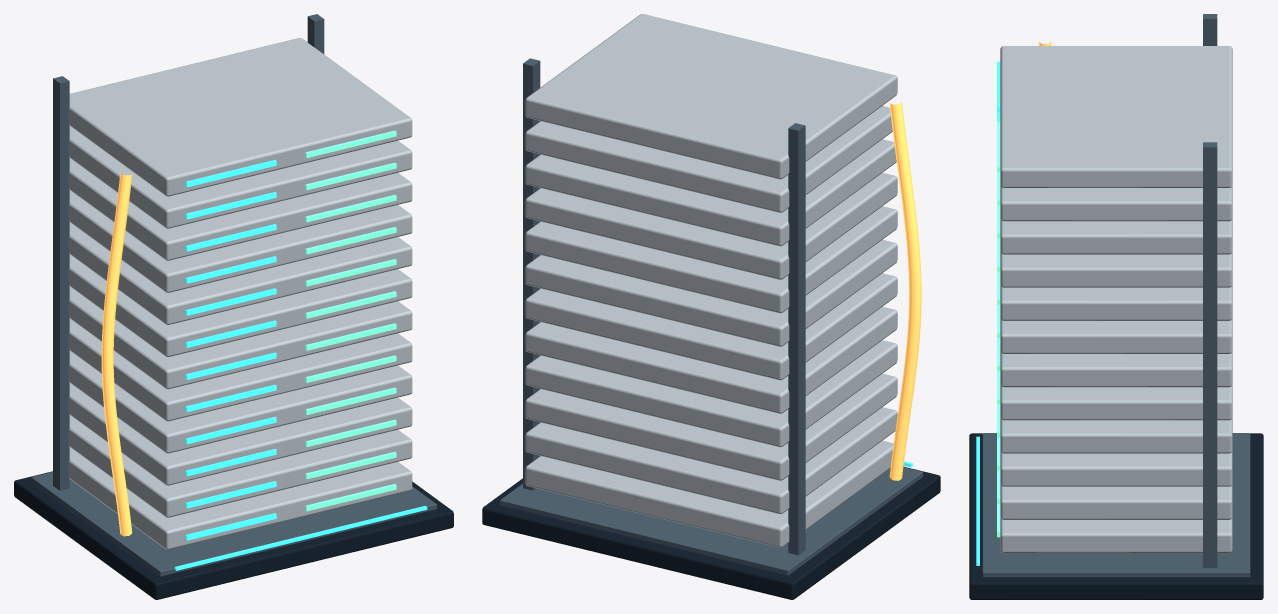
Rendered from transformer-stack.glb.
The picture shows the model from 3 angles, left to right: view 1: azimuth 30°, elevation 25°; view 2: azimuth 150°, elevation 25°; view 3: azimuth 270°, elevation 25°; orthographic projection. The views are drawn at different scales.
Visible parts, largest first — view 1: block (×12), base, inlay, mlp_strip (×12), attention_strip (×12), frame (×2), residual_bypass, status_strip; view 2: block (×12), base, inlay, frame (×2), residual_bypass; view 3: block (×12), inlay, base, frame (×2), status_strip.
Boxes of the visible parts, <box> form: block (×12): <box>68,38,412,549</box>; base: <box>14,471,453,599</box>; inlay: <box>31,472,436,576</box>; mlp_strip (×12): <box>305,130,396,511</box>; attention_strip (×12): <box>185,160,276,540</box>; frame (×2): <box>53,14,324,490</box>; residual_bypass: <box>101,173,132,536</box>; status_strip: <box>174,505,427,570</box>; block (×12): <box>525,14,897,547</box>; base: <box>482,466,940,599</box>; inlay: <box>500,467,922,575</box>; frame (×2): <box>523,58,805,555</box>; residual_bypass: <box>889,102,921,480</box>; block (×12): <box>1000,46,1232,552</box>; inlay: <box>982,433,1250,577</box>; base: <box>969,433,1263,599</box>; frame (×2): <box>1203,14,1217,567</box>; status_strip: <box>976,436,979,565</box>.
Bounding box in the file's own units: 4.21 × 5.5 × 3.3.
